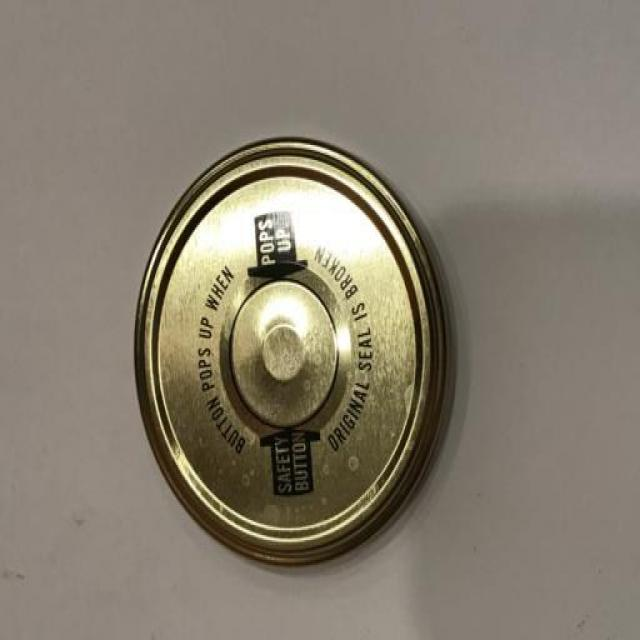metel: (124, 114, 474, 596)
